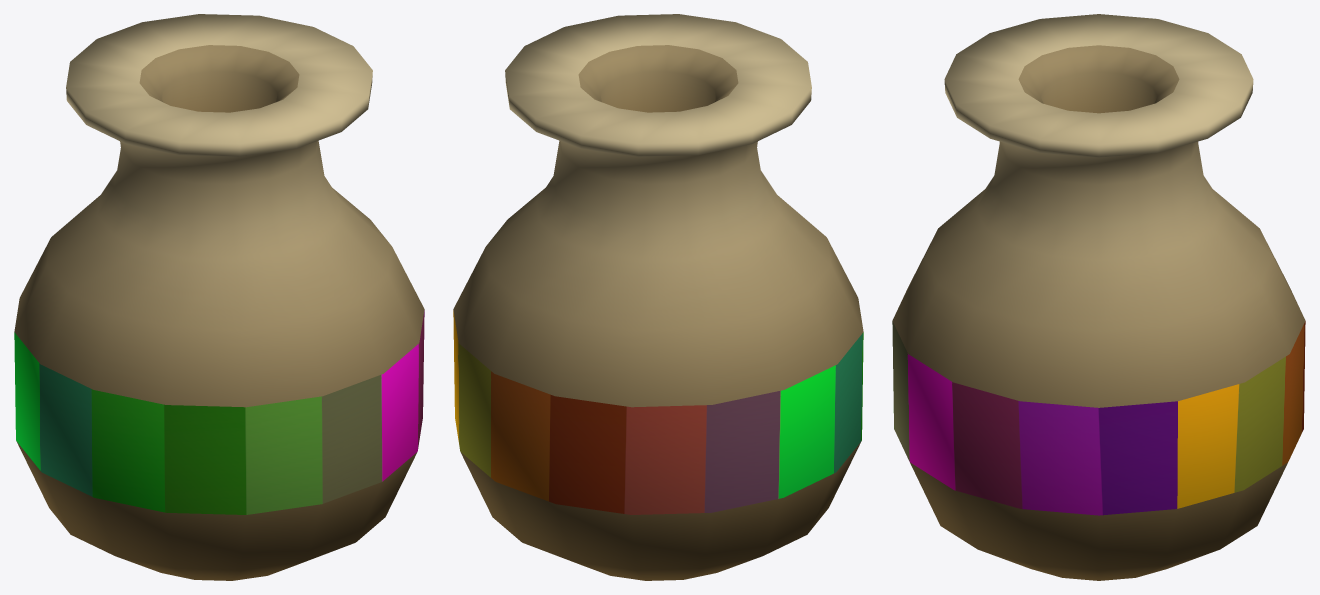
The model's file is Jarron.fbx.
3 renders of one model, left to right at view 1: azimuth 30°, elevation 25°; view 2: azimuth 150°, elevation 25°; view 3: azimuth 270°, elevation 25°, orthographic.
Visible parts, largest first — view 1: Plane; view 2: Plane; view 3: Plane.
Boxes of the visible parts, x1,y1,x2,y2 form: Plane: (14, 14, 424, 580); Plane: (453, 14, 863, 580); Plane: (892, 14, 1305, 580).
Bounding box in the file's own units: 212 × 261 × 212.
